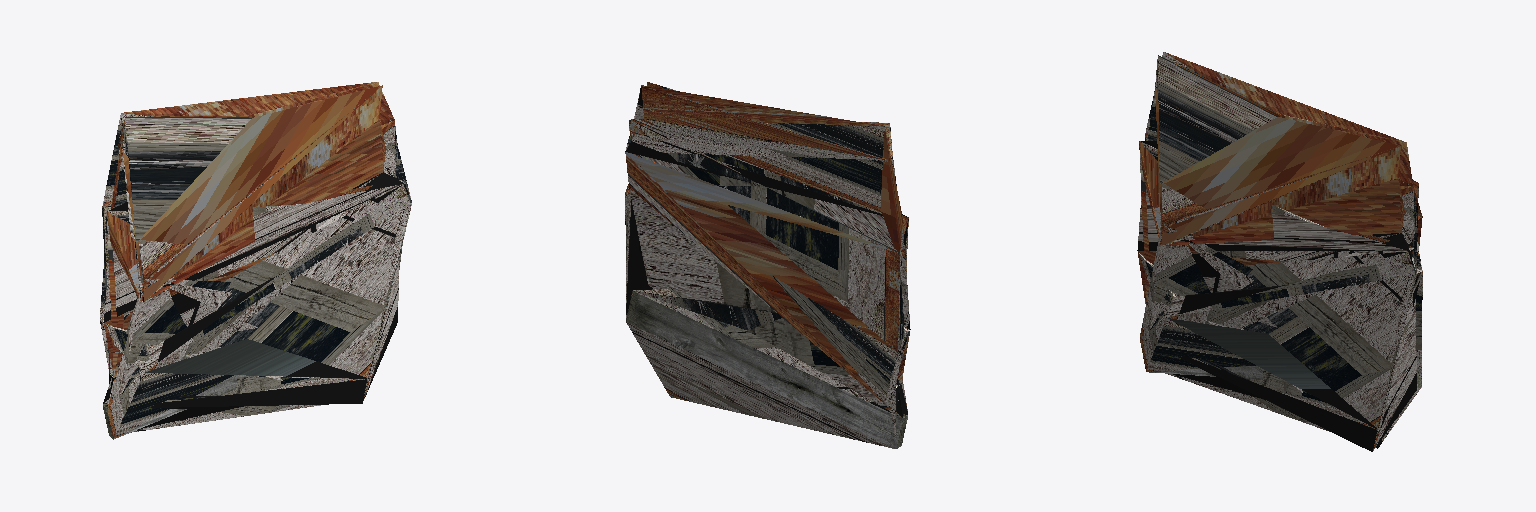
3 views of the same model, side by side, from view 1: azimuth 30°, elevation 25°; view 2: azimuth 150°, elevation 25°; view 3: azimuth 330°, elevation 25° (orthographic).
Parts seen in each view (by area): view 1: Cylinder001, Box001, Box002; view 2: Box001, Cylinder001, Box002; view 3: Cylinder001, Box001, Box002.
Part boxes in pixels (left/top/right/bottom): Cylinder001: left=100, top=82, right=411, bottom=438; Box001: left=100, top=90, right=411, bottom=428; Box002: left=103, top=375, right=253, bottom=439; Box001: left=625, top=88, right=910, bottom=442; Cylinder001: left=625, top=82, right=909, bottom=448; Box002: left=626, top=290, right=907, bottom=448; Cylinder001: left=1138, top=52, right=1422, bottom=450; Box001: left=1137, top=52, right=1422, bottom=451; Box002: left=1149, top=366, right=1421, bottom=389.
Size of the model in its own units: 49.02 by 53.1 by 5.64.
Materials: 5 (5 with a texture image).